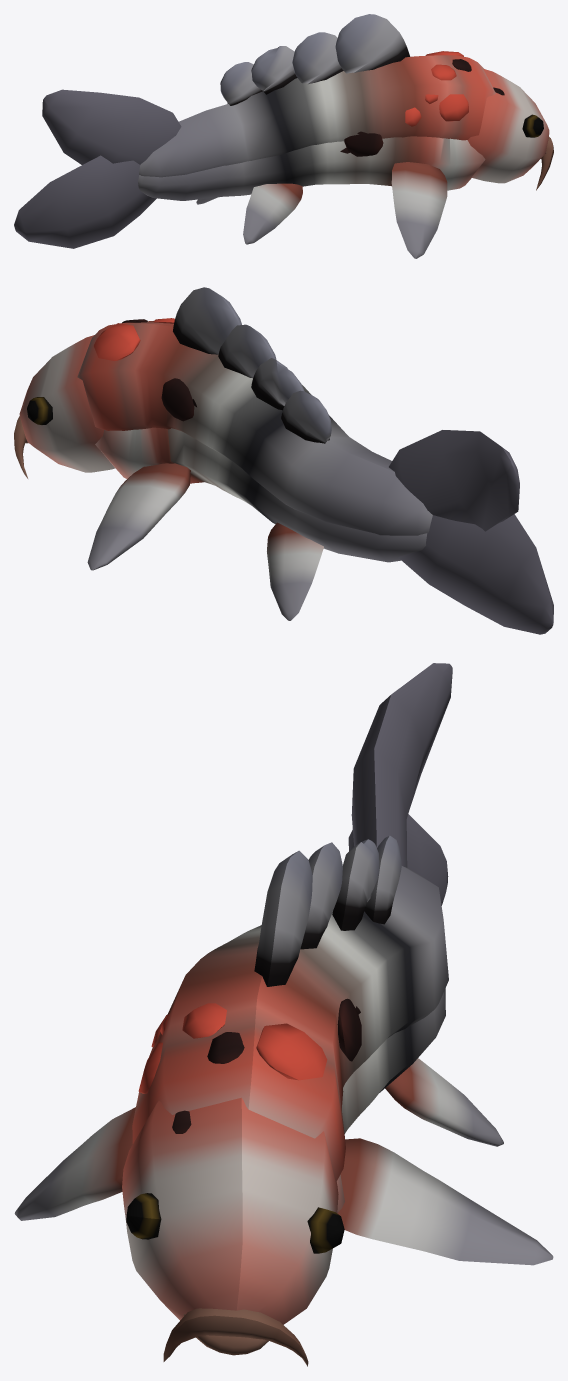
The model's file is koi_01.glb.
3 views of the same model, one above another, from view 1: azimuth 30°, elevation 25°; view 2: azimuth 150°, elevation 25°; view 3: azimuth 270°, elevation 25° (orthographic). The views are drawn at different scales.
Visible parts, largest first — view 1: Paint.001; view 2: Paint.001; view 3: Paint.001.
Part boxes in pixels (bbox=[...]): Paint.001: bbox=[14, 14, 553, 258]; Paint.001: bbox=[14, 287, 553, 634]; Paint.001: bbox=[14, 663, 553, 1366].
Size of the model in its own units: 2.51 by 0.9989 by 1.21.
